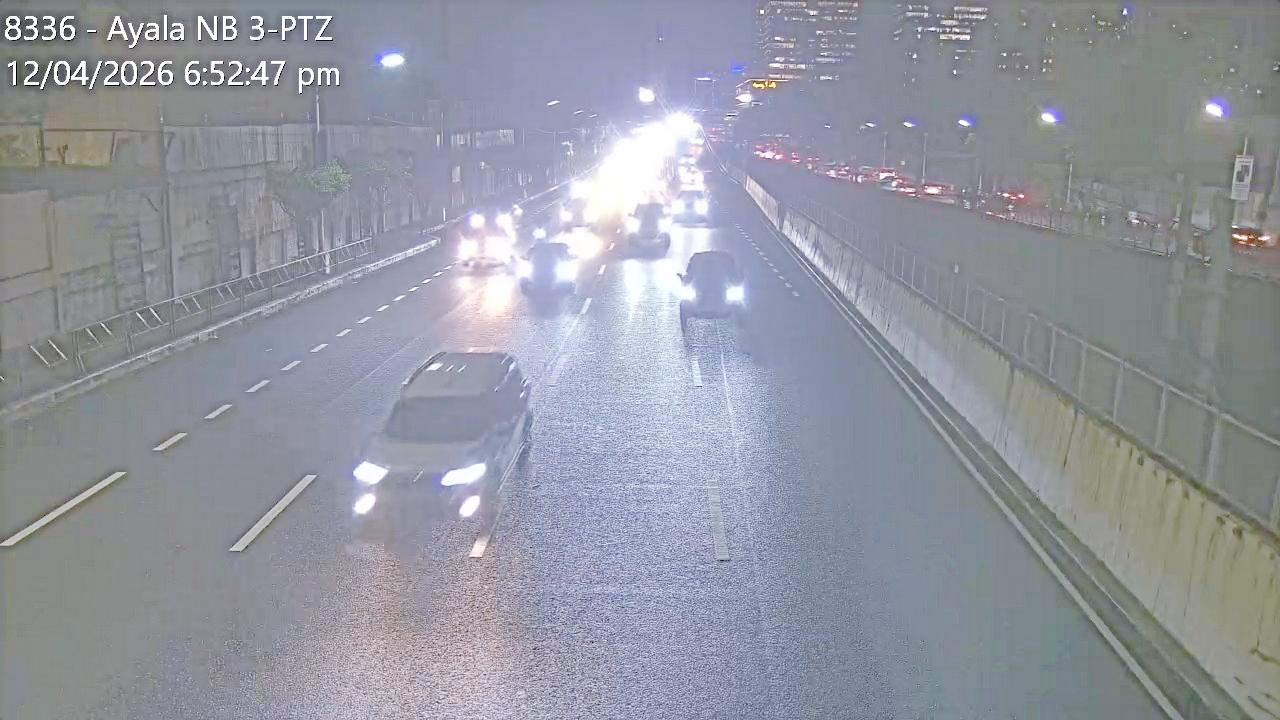Car: (347, 348, 531, 526), (675, 248, 746, 318), (516, 239, 579, 295), (457, 224, 515, 278), (625, 201, 673, 254), (672, 171, 713, 225), (558, 184, 597, 228)
